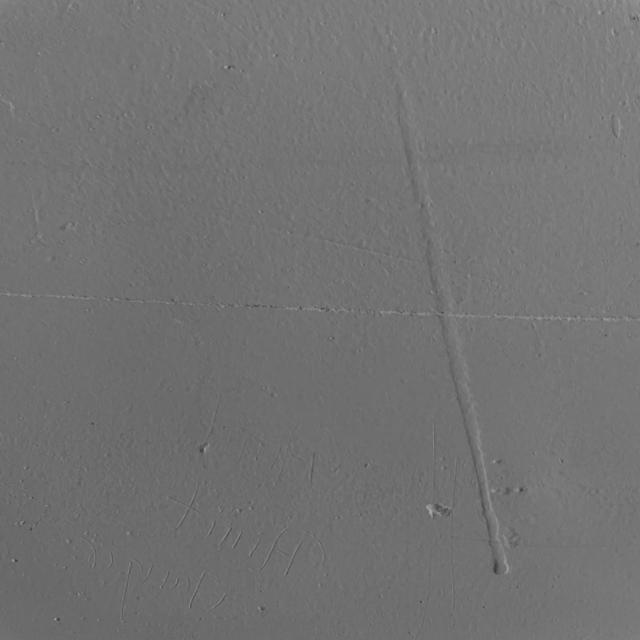rough and patchy surface: (355, 77, 552, 589), (22, 438, 454, 623), (1, 287, 637, 327)
